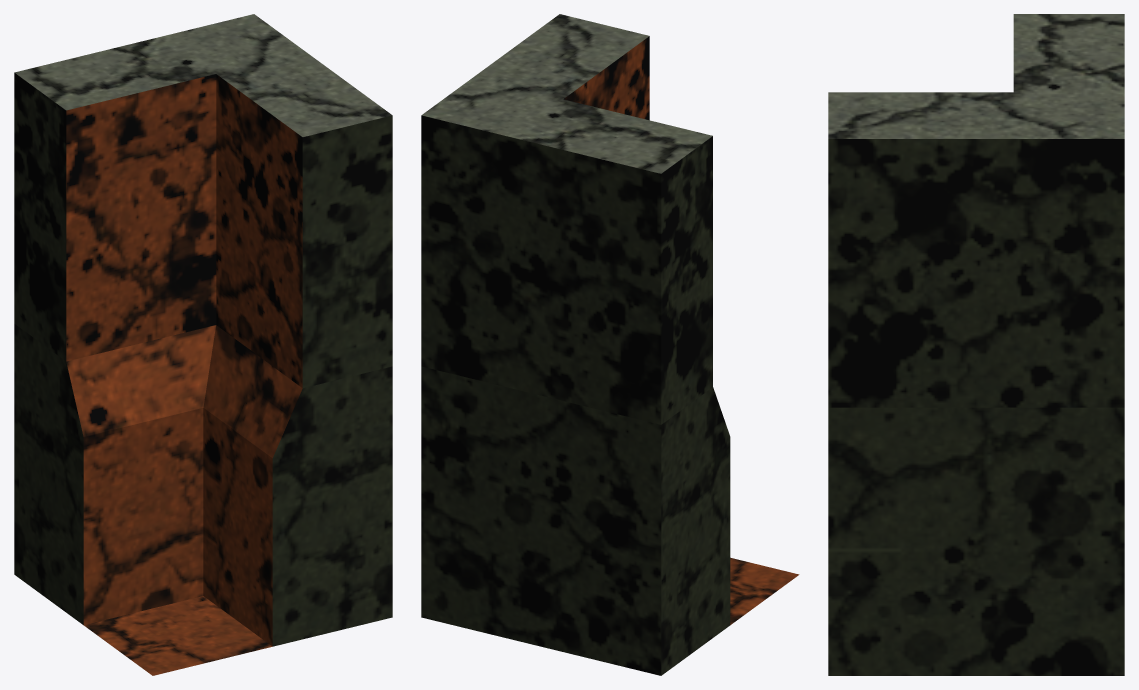
File: Env_Ctn_Wall_Corner90_Outside_CW.fbx
The picture shows the model from 3 angles, left to right: view 1: azimuth 30°, elevation 25°; view 2: azimuth 150°, elevation 25°; view 3: azimuth 270°, elevation 25°; orthographic projection. The views are drawn at different scales.
Visible parts, largest first — view 1: Wall_Corner90_Outside_Top, Wall_Corner90_Outside, Floor_Edge_Corner90_Outside; view 2: Wall_Corner90_Outside_Top, Wall_Corner90_Outside, Floor_Edge_Corner90_Outside; view 3: Wall_Corner90_Outside_Top, Wall_Corner90_Outside.
Boxes of the visible parts, x1,y1,x2,y2 form: Wall_Corner90_Outside_Top: (14, 14, 392, 388); Wall_Corner90_Outside: (14, 324, 392, 646); Floor_Edge_Corner90_Outside: (84, 596, 272, 675); Wall_Corner90_Outside_Top: (421, 14, 712, 424); Wall_Corner90_Outside: (421, 366, 730, 675); Floor_Edge_Corner90_Outside: (730, 557, 799, 624); Wall_Corner90_Outside_Top: (828, 14, 1124, 407); Wall_Corner90_Outside: (828, 407, 1124, 675).
Size of the model in its own units: 100 by 200 by 100.
